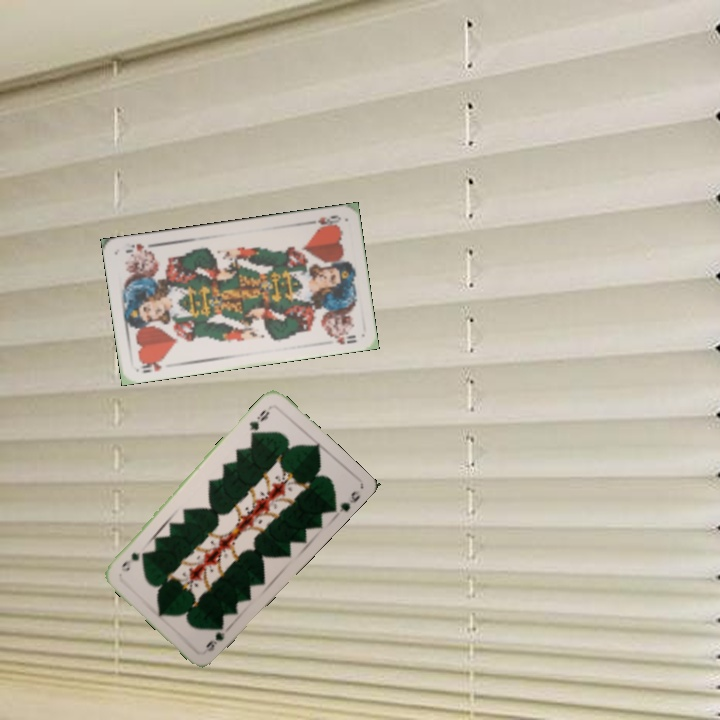G9: (202, 618, 227, 654), (245, 406, 272, 438)
HO: (303, 211, 344, 230), (137, 355, 168, 375)
